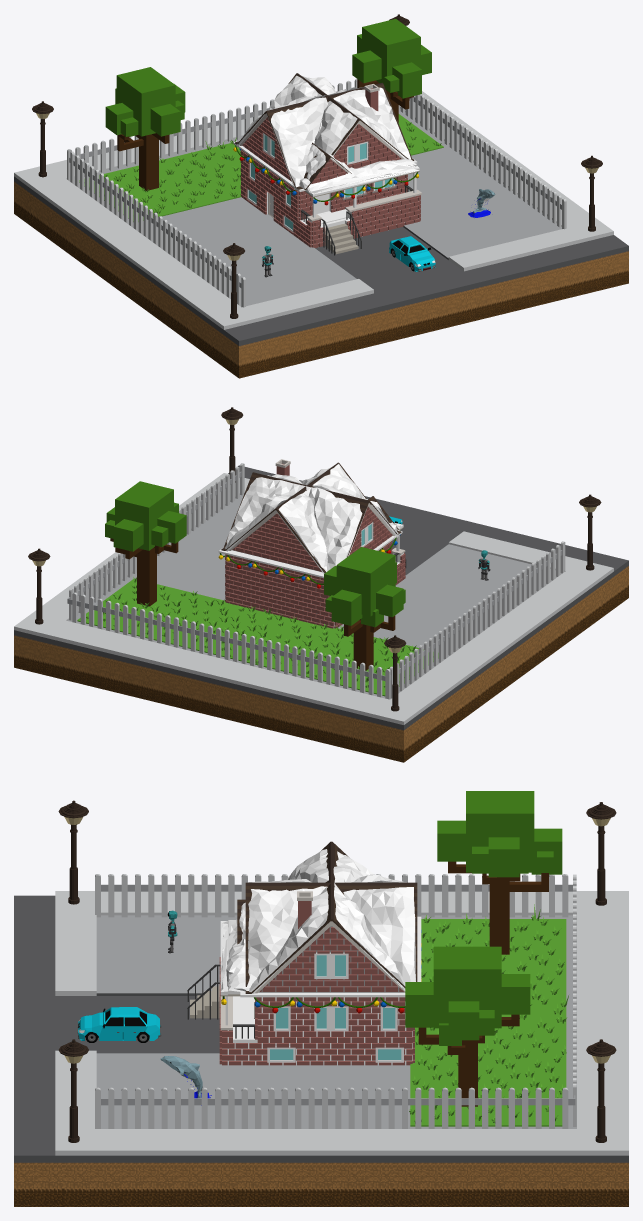
3 renders of one model, top to bottom at view 1: azimuth 30°, elevation 25°; view 2: azimuth 150°, elevation 25°; view 3: azimuth 270°, elevation 25°, orthographic. The views are drawn at different scales.
Parts seen in each view (by area): view 1: Cube.004, Cube.1419, VEHICLES_CAR; view 2: Cube.004, Cube.1419; view 3: Cube.004, Cube.1419, VEHICLES_CAR, ANIMAL_DELFIN.
Part boxes in pixels (<box>): Cube.004: <box>14,14,628,378</box>; Cube.1419: <box>233,73,422,255</box>; VEHICLES_CAR: <box>389,236,435,271</box>; Cube.004: <box>14,407,628,762</box>; Cube.1419: <box>218,459,406,628</box>; Cube.004: <box>14,791,628,1206</box>; Cube.1419: <box>187,841,421,1065</box>; VEHICLES_CAR: <box>77,1007,161,1042</box>; ANIMAL_DELFIN: <box>160,1056,211,1105</box>.
Bounding box in the file's own units: 4000 × 1702 × 4000.
42 materials, 3 textured.
